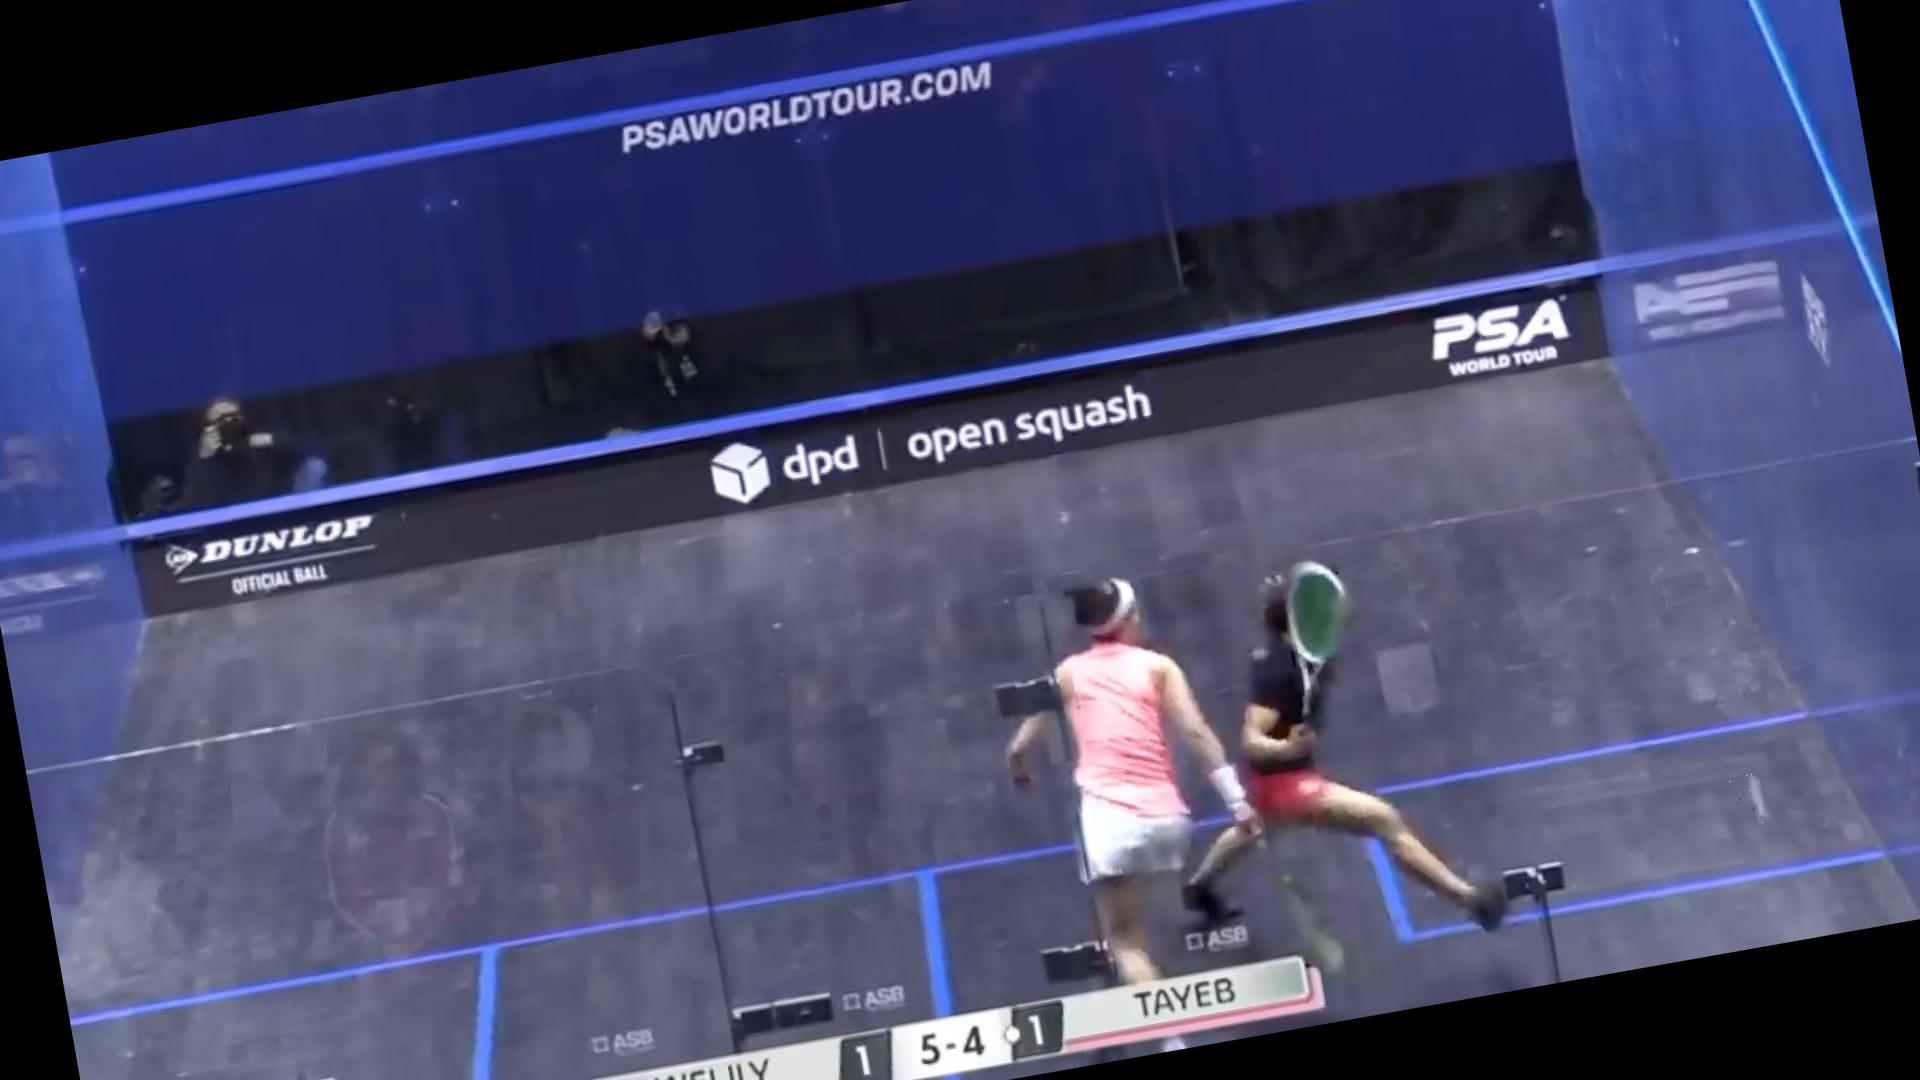Squash-Ball: (1724, 769, 1789, 833)
